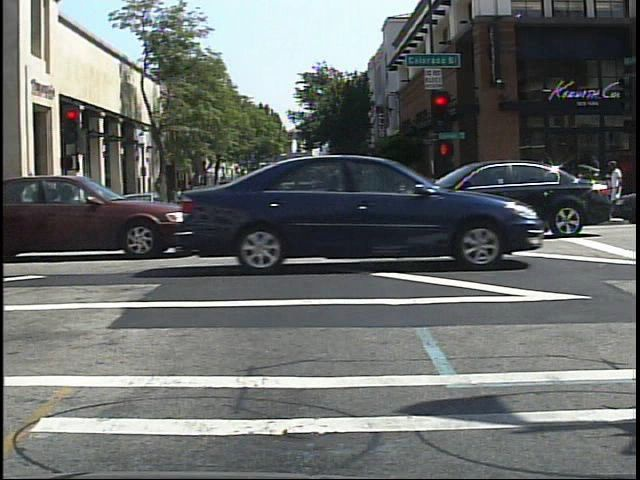person: (603, 156, 630, 221)
